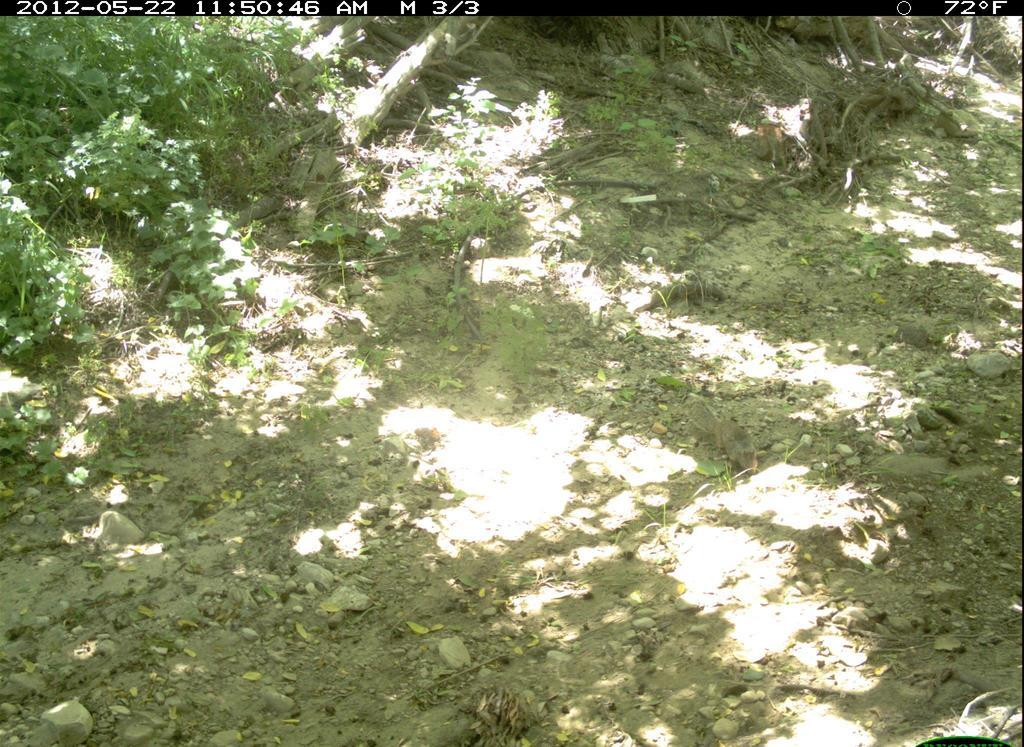squirrel: (681, 393, 764, 483)
